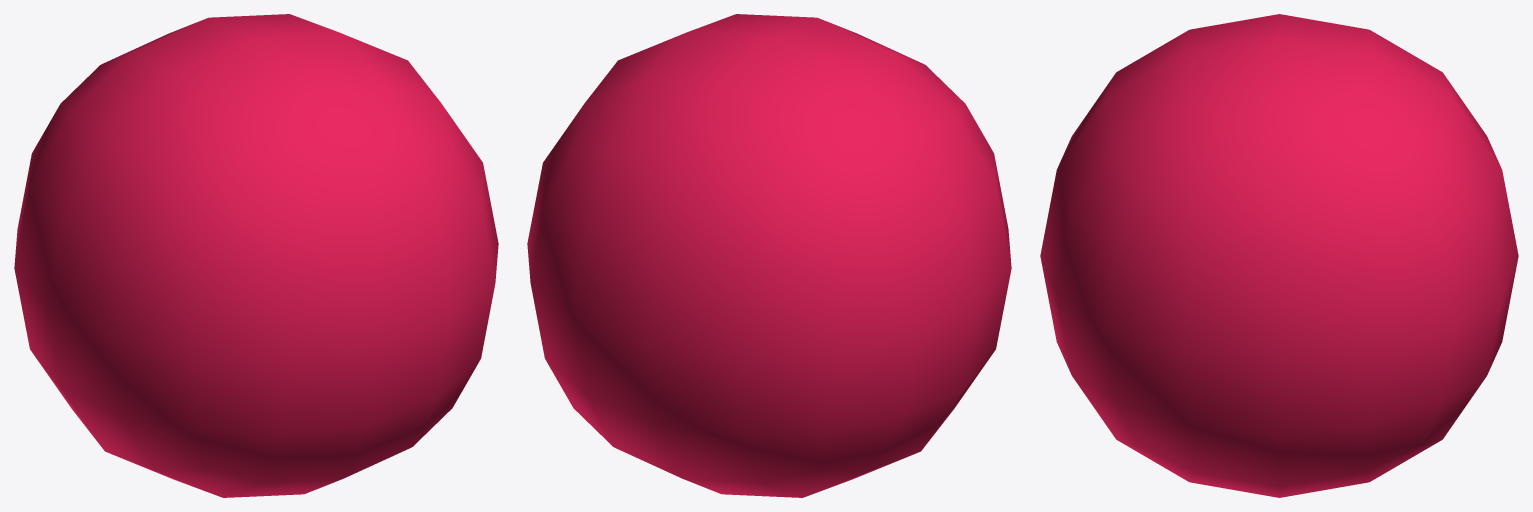
The model's file is Mesh_1Mat_0Blend.gltf.
3 views of the same model, side by side, from view 1: azimuth 30°, elevation 25°; view 2: azimuth 150°, elevation 25°; view 3: azimuth 270°, elevation 25° (orthographic).
Parts seen in each view (by area): view 1: Mesh_1Mat_0Blend; view 2: Mesh_1Mat_0Blend; view 3: Mesh_1Mat_0Blend.
Boxes of the visible parts, x1,y1,x2,y2 form: Mesh_1Mat_0Blend: (14,14,498,497); Mesh_1Mat_0Blend: (527,14,1011,497); Mesh_1Mat_0Blend: (1040,14,1518,497).
Size of the model in its own units: 0.8395 by 0.8395 by 0.8395.
